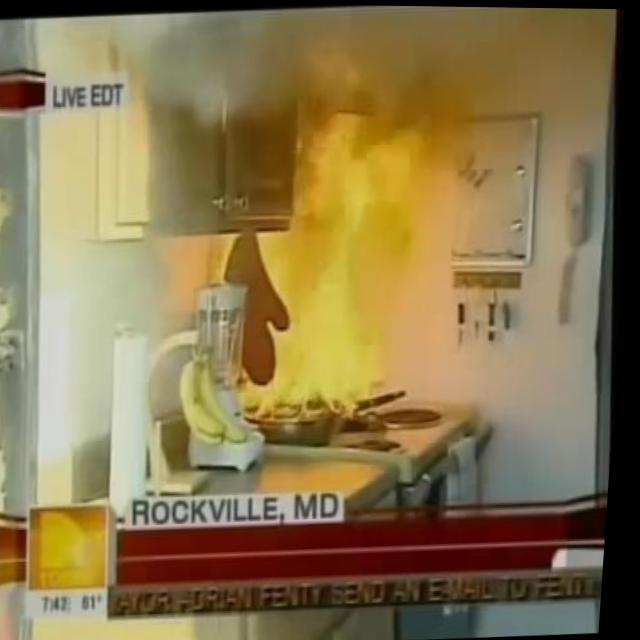fire: (233, 130, 424, 417)
